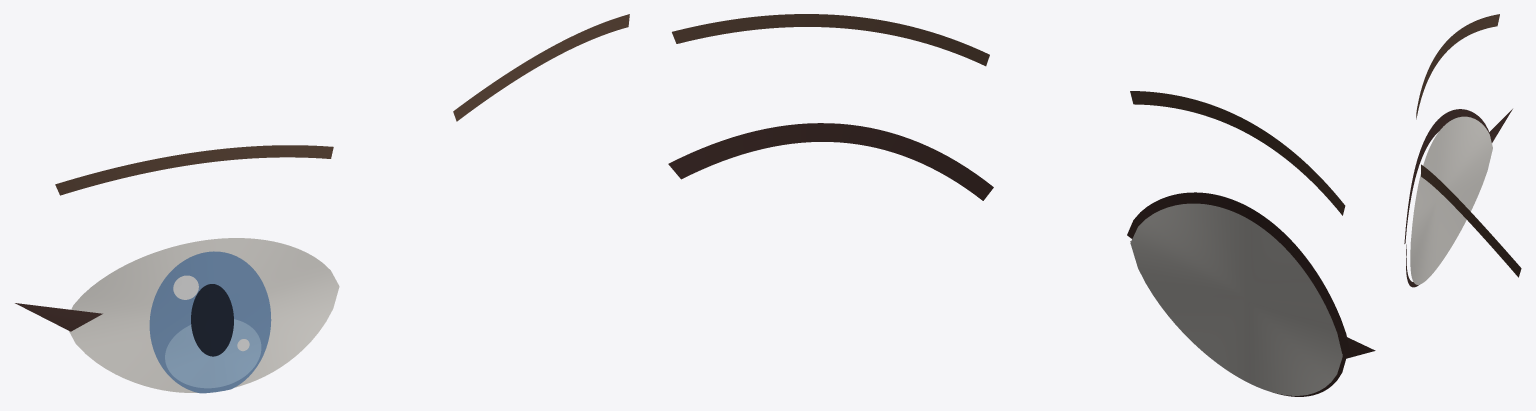
3 renders of one model, left to right at view 1: azimuth 30°, elevation 25°; view 2: azimuth 150°, elevation 25°; view 3: azimuth 270°, elevation 25°, orthographic. The views are drawn at different scales.
Parts seen in each view (by area): view 1: Eye_White_-1, Eye_Iris_-1, Eye_Iris_Light_-1, Eyebrow_-1, Eye_Pupil_-1, Eyebrow_1, Eye_LashWing_-1; view 2: Eye_White_-1, Eye_Closed_1, Eyebrow_1, Eye_UpperLid_-1, Eyebrow_-1; view 3: Eye_White_-1, Eyebrow_1, Eyebrow_-1, Eye_UpperLid_-1, Eye_LashWing_-1.
Boxes of the visible parts, x1,y1,x2,y2 form: Eye_White_-1: (69,238,339,392); Eye_Iris_-1: (149,251,271,393); Eye_Iris_Light_-1: (165,319,261,388); Eyebrow_-1: (55,145,333,195); Eye_Pupil_-1: (191,284,233,356); Eyebrow_1: (453,14,629,121); Eye_LashWing_-1: (15,303,102,331); Eye_White_-1: (1130,203,1342,395); Eye_Closed_1: (668,123,993,200); Eyebrow_1: (672,14,989,66); Eye_UpperLid_-1: (1127,192,1350,354); Eyebrow_-1: (1130,91,1345,215); Eye_White_-1: (1410,116,1492,284); Eyebrow_1: (1421,164,1521,277); Eyebrow_-1: (1416,14,1499,119); Eye_UpperLid_-1: (1404,109,1488,243); Eye_LashWing_-1: (1489,109,1512,142).
Bounding box in the file's own units: 0.4211 × 0.1616 × 0.0715.
